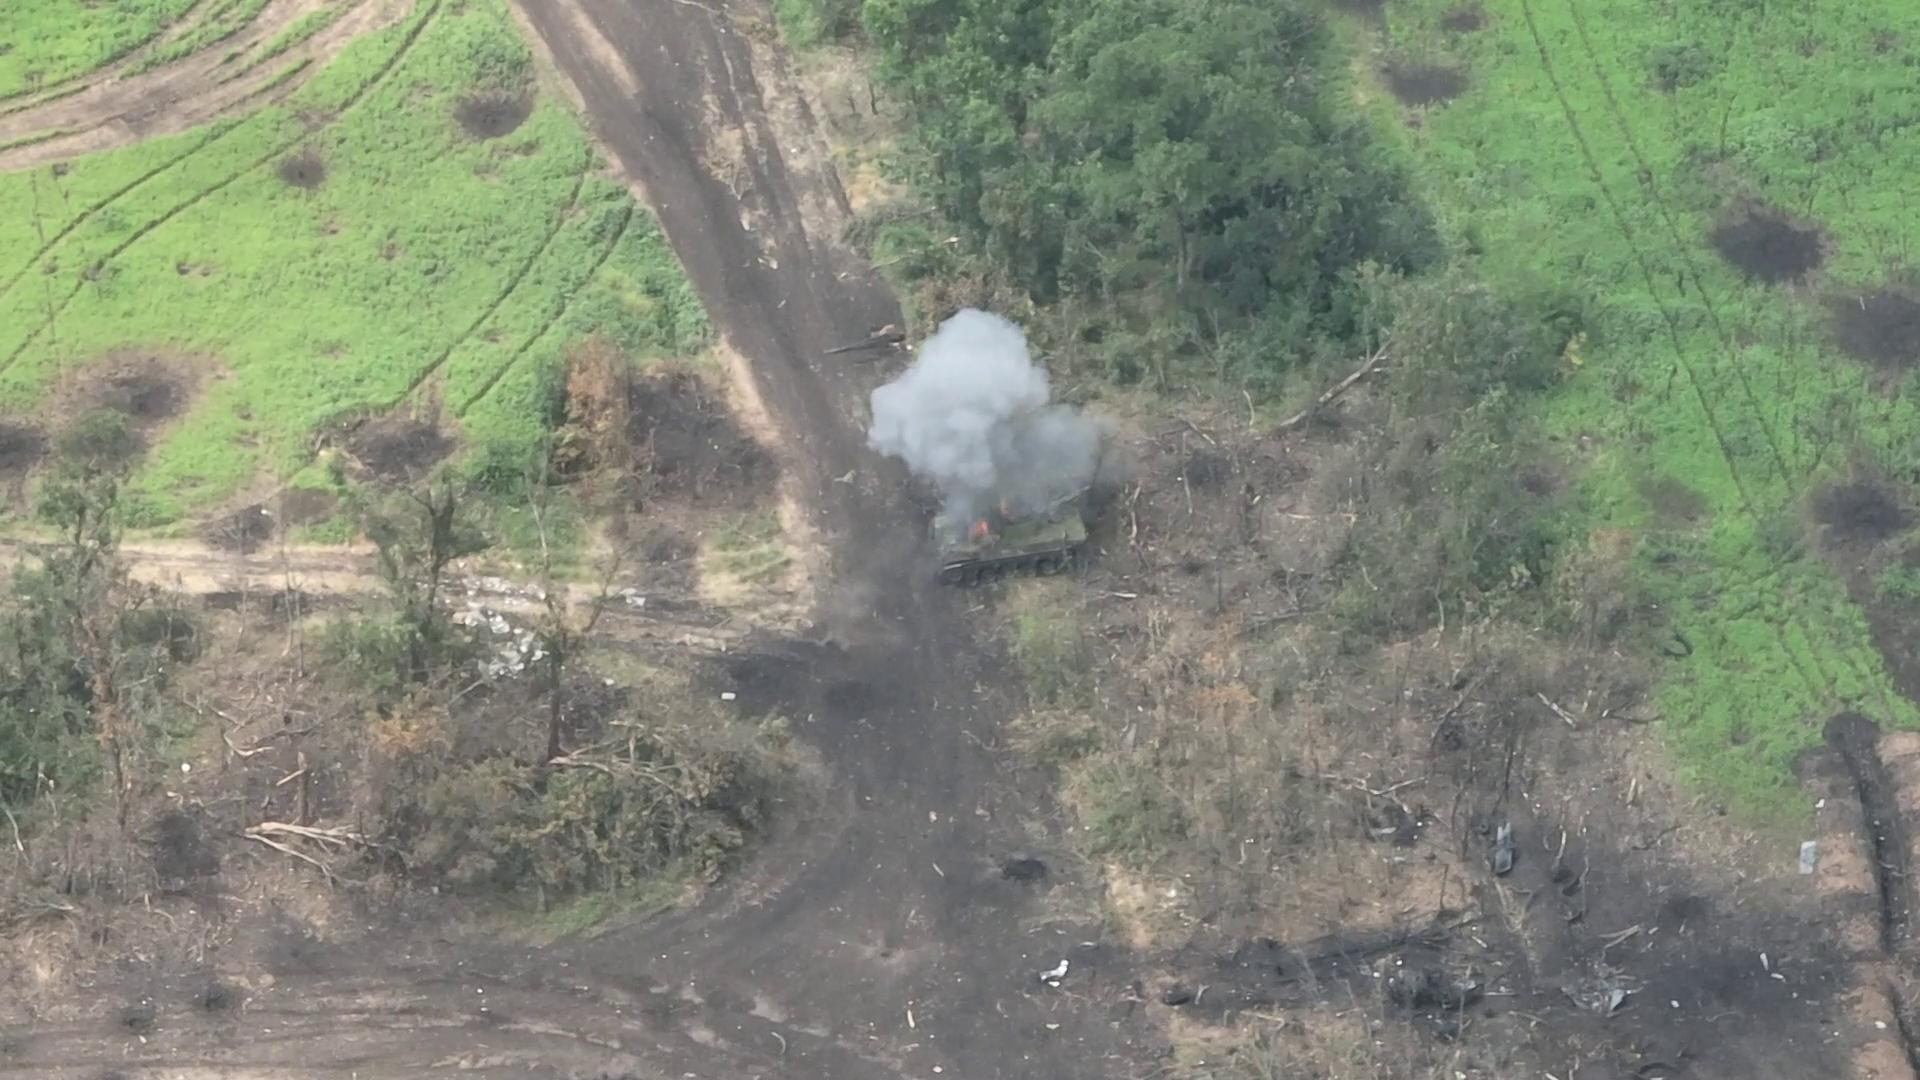tank: (928, 480, 1088, 589)
